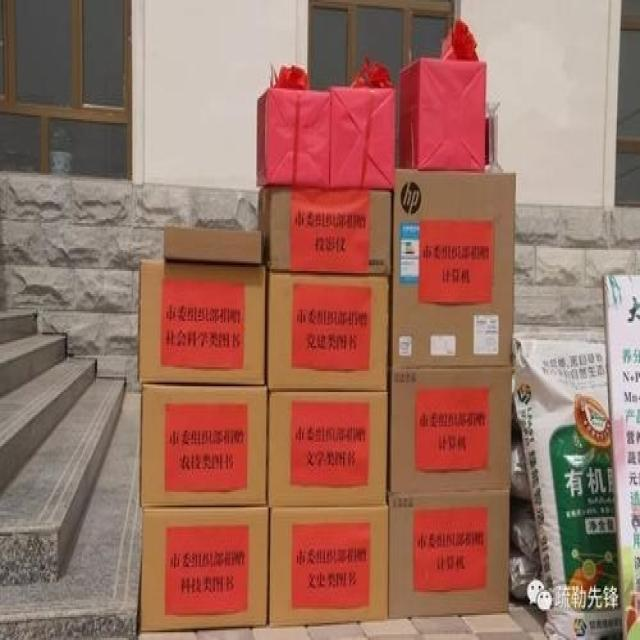box: (392, 167, 516, 371), (140, 507, 269, 632), (388, 490, 509, 621), (138, 261, 265, 384), (141, 384, 268, 507), (390, 369, 512, 494), (269, 507, 388, 627), (268, 275, 389, 390), (268, 390, 388, 505), (257, 185, 390, 273), (398, 58, 486, 171), (255, 88, 330, 188), (332, 85, 397, 192), (163, 227, 262, 263)
